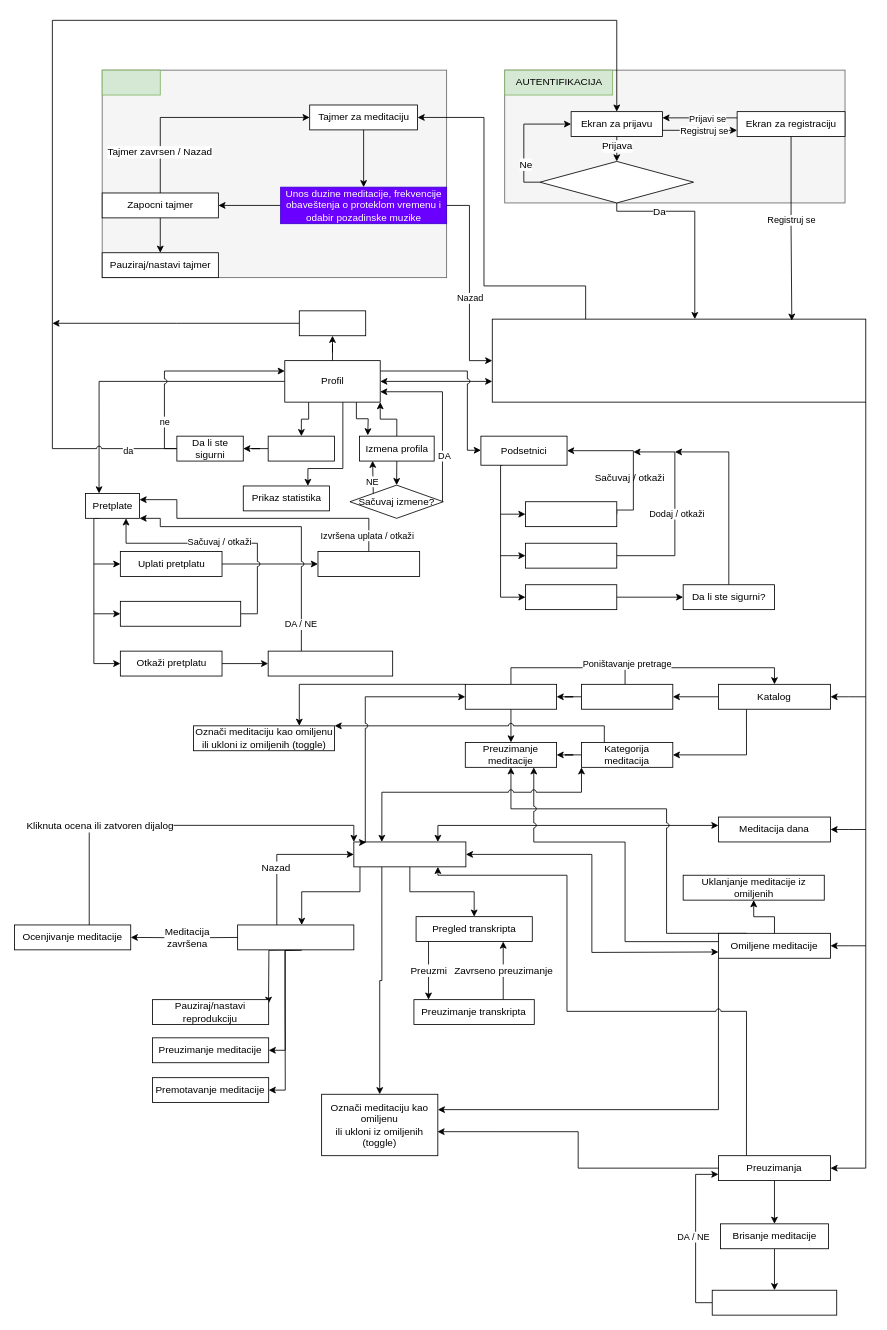
Image size: 887x1330. Some labels were removed from this diagram. The shapes that lost their labels are listed below. From the top down, each one's box as (x1, y1, x2, y2) in pixels, then its label:
(101, 69, 160, 95): TAJMER
(539, 161, 694, 203): Kredencijali validni?
(298, 310, 366, 336): Odjava
(491, 318, 866, 402): Glavni ekran
(267, 435, 335, 461): Brisanje naloga
(525, 501, 617, 527): Izmeni podsetnik
(317, 551, 420, 576): Unos podataka o načinu plaćanja
(525, 542, 617, 568): Dodaj podsetnik
(120, 601, 241, 626): Izmena podataka o načinu plaćanja
(525, 584, 617, 610): Ukloni podsetnik
(267, 650, 393, 676): Da li ste sigurni da želite da otkažete pretplatu?
(464, 684, 557, 709): Rezultati pretrage
(581, 684, 673, 709): Unos upita za pretragu
(353, 841, 466, 867): Informacije o meditaciji
(237, 924, 354, 950): Reprodukcija meditacije
(711, 1289, 837, 1315): Da li ste sigurni da želite da obrišete meditaciju?
